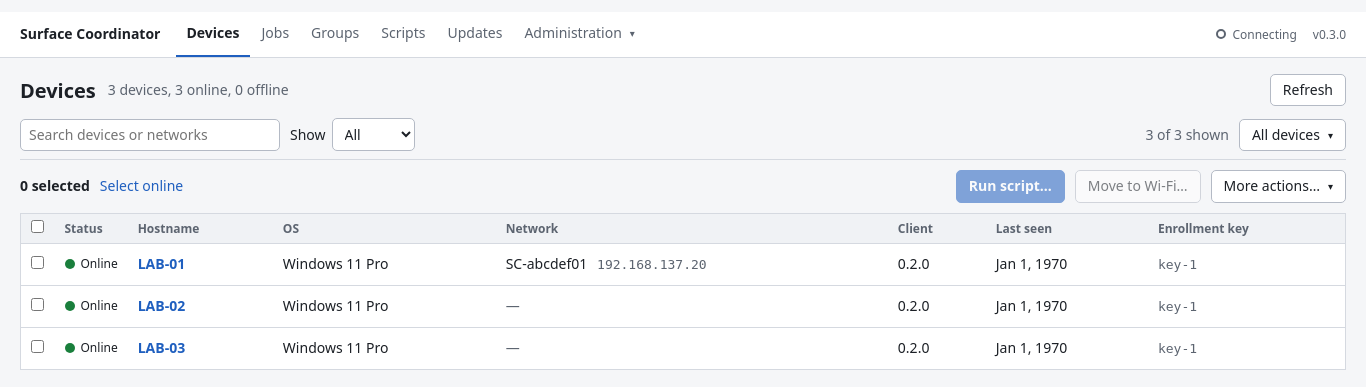
Test: Move to Wi-Fi › lists Wi-Fi jobs by their one-line preview
Click the link "Jobs": (275,33) x1=262 y1=23 x2=289 y2=42
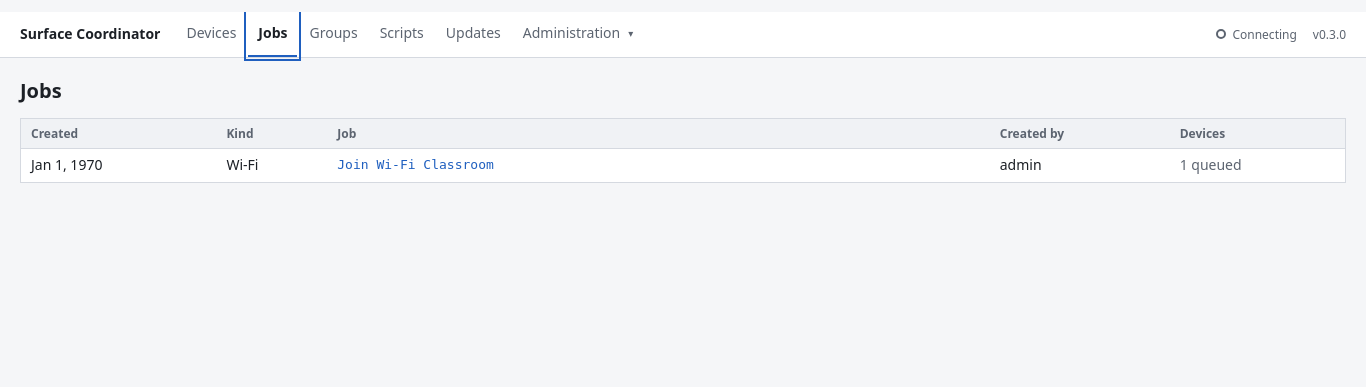
Check: the row "Join Wi-Fi Classroom" is shown, box x1=20 y1=149 x2=1346 y2=182
Check: the text "Wi-Fi" is shown, box x1=216 y1=149 x2=327 y2=182
